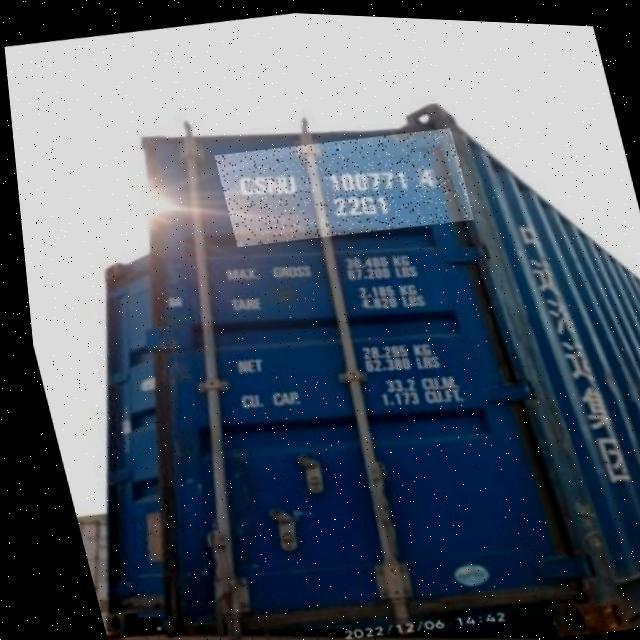container_number_h: (209, 116, 472, 253)
